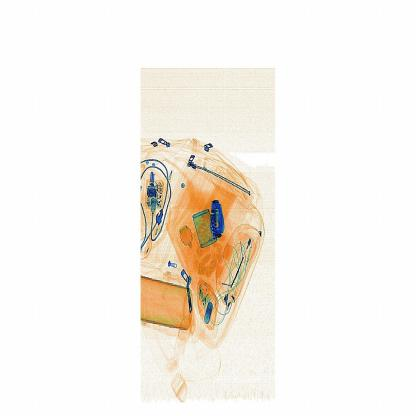scissors: (208, 194, 232, 244)
